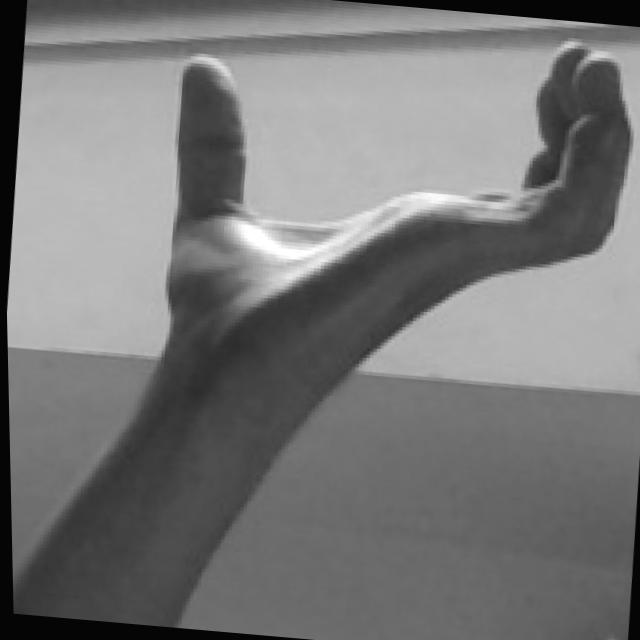space: (150, 9, 640, 388)
